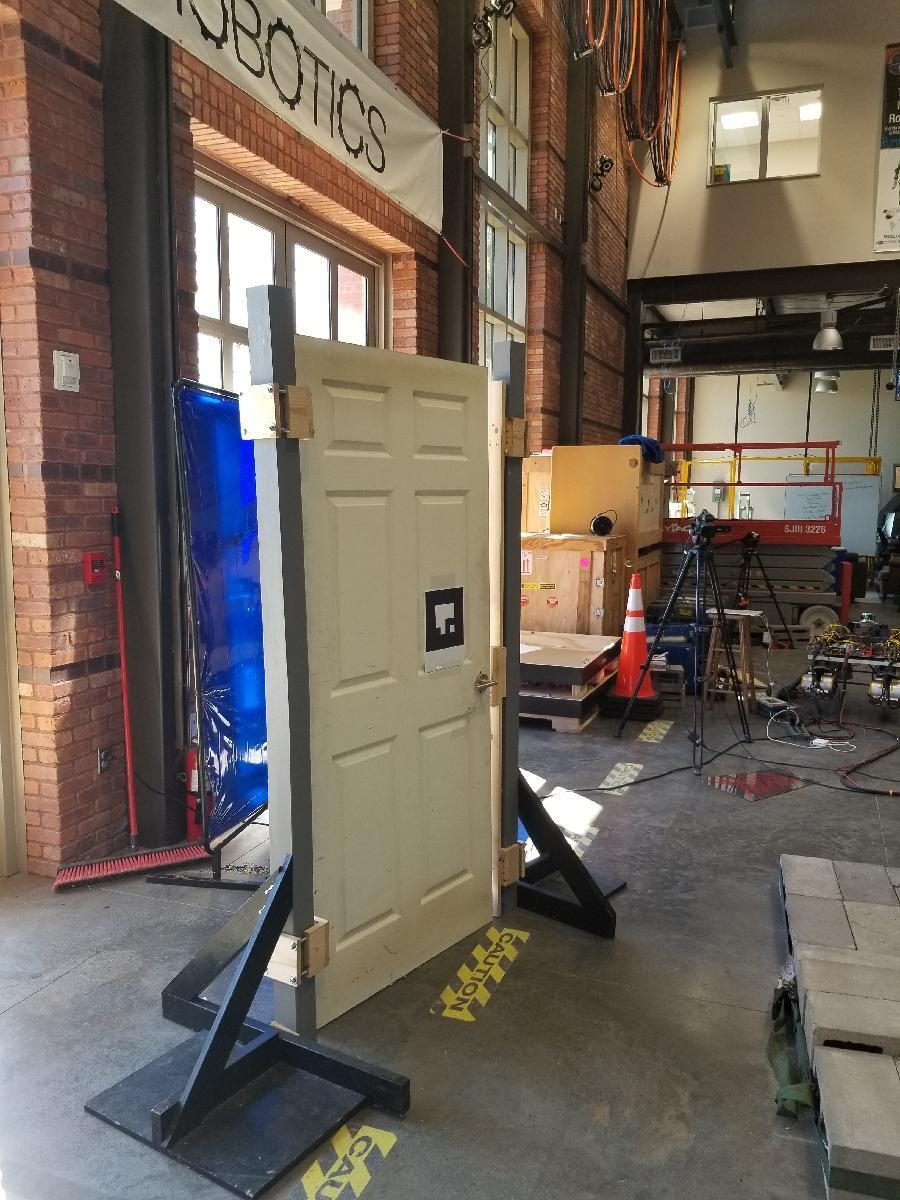door: (296, 335, 501, 998)
